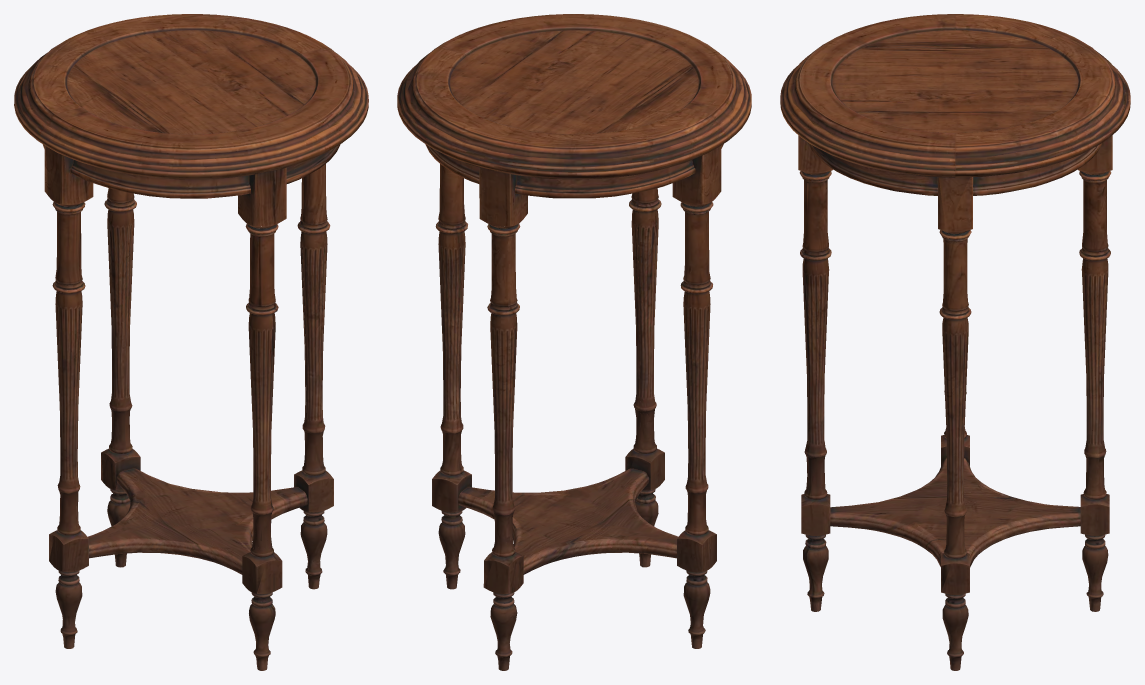
Rendered from coffee-table-transformed.glb.
3 views of the same model, side by side, from view 1: azimuth 30°, elevation 25°; view 2: azimuth 150°, elevation 25°; view 3: azimuth 270°, elevation 25° (orthographic).
Visible parts, largest first — view 1: Table__0; view 2: Table__0; view 3: Table__0.
Boxes of the visible parts, box(x1,y1,x2,y2) form: Table__0: box(14, 14, 368, 670); Table__0: box(397, 14, 751, 670); Table__0: box(780, 14, 1130, 670).
Bounding box in the file's own units: 0.564 × 0.9406 × 0.564.
1 material, 1 textured.
